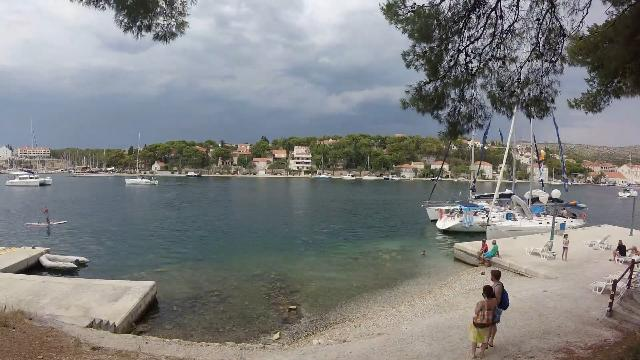Freighter: (64, 158, 124, 180)
Sailboat: (2, 166, 56, 190), (119, 172, 163, 188)
